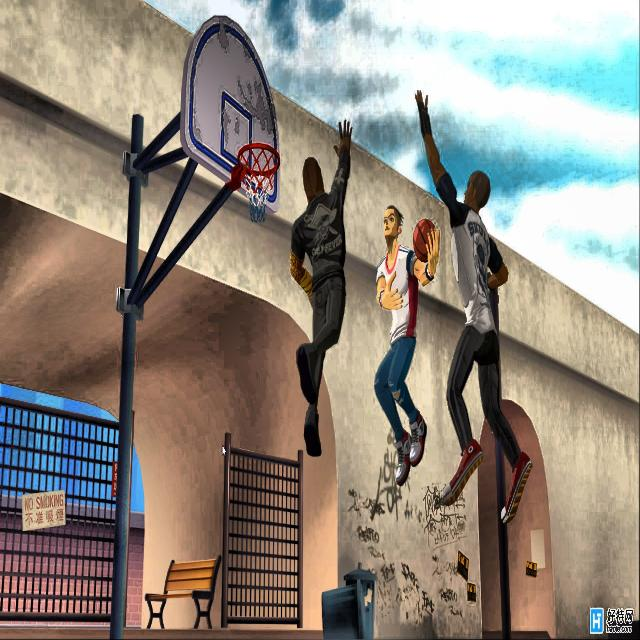rim: (237, 142, 281, 222)
